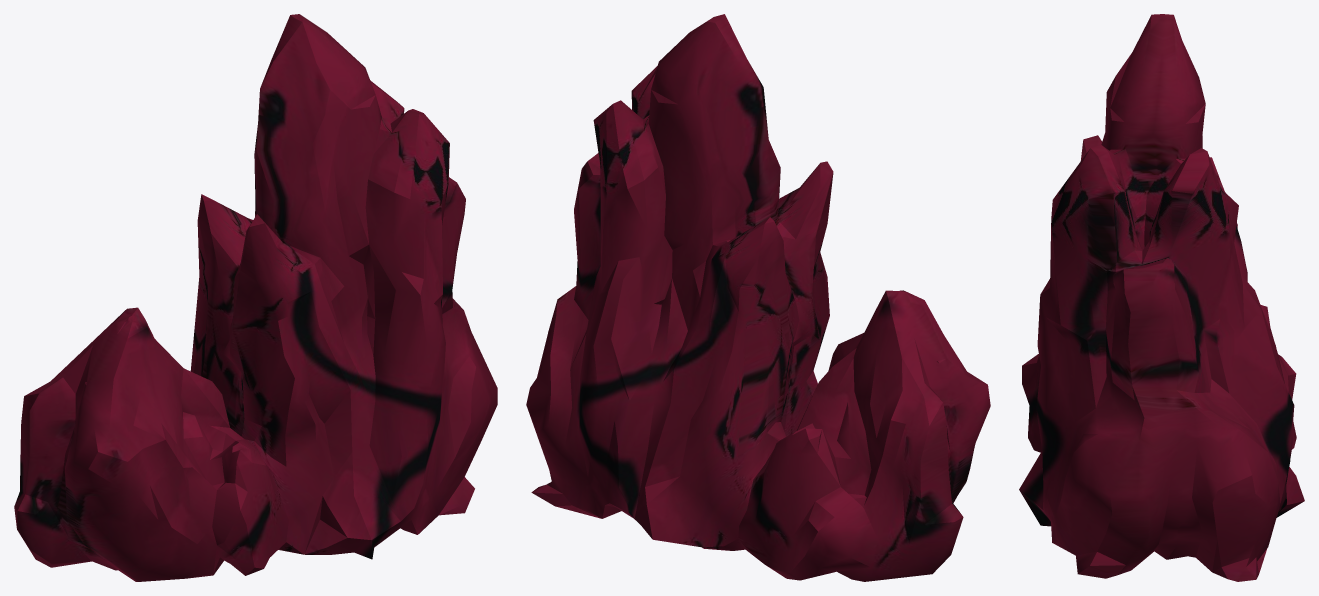
Rendered from Niflheim_Corrupted_Ice_Cluster.glb.
3 views of the same model, side by side, from view 1: azimuth 30°, elevation 25°; view 2: azimuth 150°, elevation 25°; view 3: azimuth 270°, elevation 25° (orthographic). The views are drawn at different scales.
Parts seen in each view (by area): view 1: Багровый заражённый лёд Хвергельмира; view 2: Багровый заражённый лёд Хвергельмира; view 3: Багровый заражённый лёд Хвергельмира.
Boxes of the visible parts, x1,y1,x2,y2 form: Багровый заражённый лёд Хвергельмира: (14, 14, 497, 581); Багровый заражённый лёд Хвергельмира: (526, 14, 990, 581); Багровый заражённый лёд Хвергельмира: (1019, 14, 1304, 581).
Bounding box in the file's own units: 10.5 × 11.5 × 5.85.
Materials: 1 (1 with a texture image).
